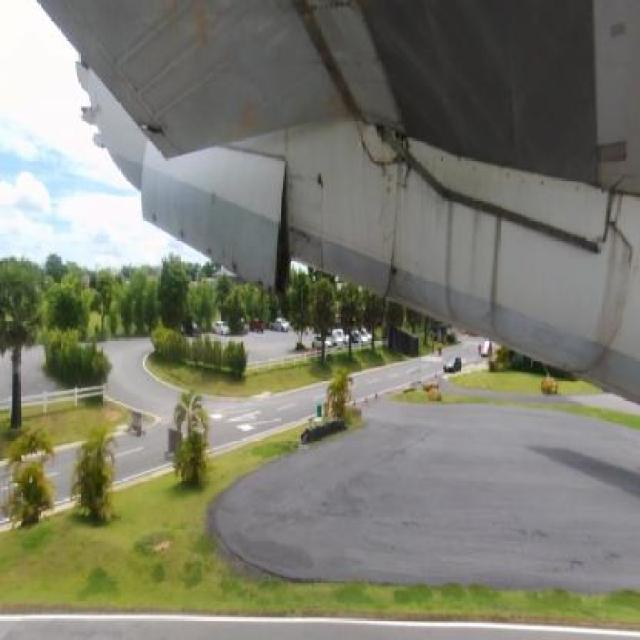Rust: (436, 187, 524, 350), (584, 202, 638, 395), (144, 1, 251, 79), (344, 95, 421, 194), (284, 157, 330, 274), (376, 229, 422, 317), (303, 84, 365, 136), (327, 3, 402, 45), (224, 94, 273, 141), (255, 269, 279, 306), (225, 254, 247, 291), (175, 223, 194, 249), (147, 205, 165, 232), (203, 243, 220, 268)
Scartch: (126, 111, 185, 160), (371, 167, 404, 241)
